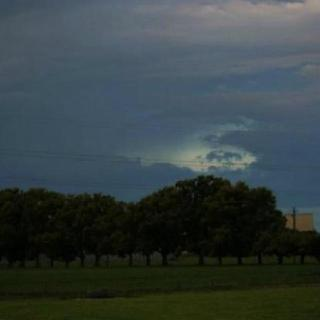Altocumulus: (11, 2, 320, 191)
